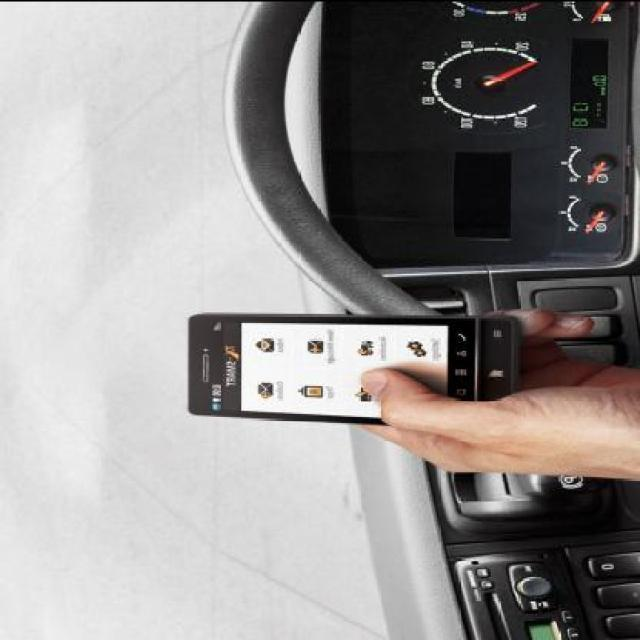phone: (175, 308, 533, 430)
